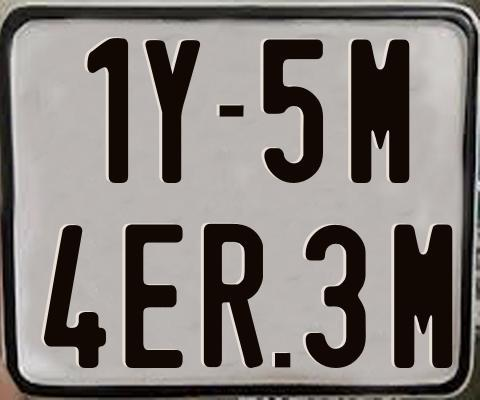1: (86, 36, 133, 183)
3: (304, 224, 368, 368)
4: (43, 224, 107, 372)
5: (263, 36, 327, 184)
E: (124, 221, 186, 371)
M: (392, 223, 454, 370), (351, 37, 412, 184)
R: (203, 224, 268, 372)
Y: (144, 38, 201, 183)
